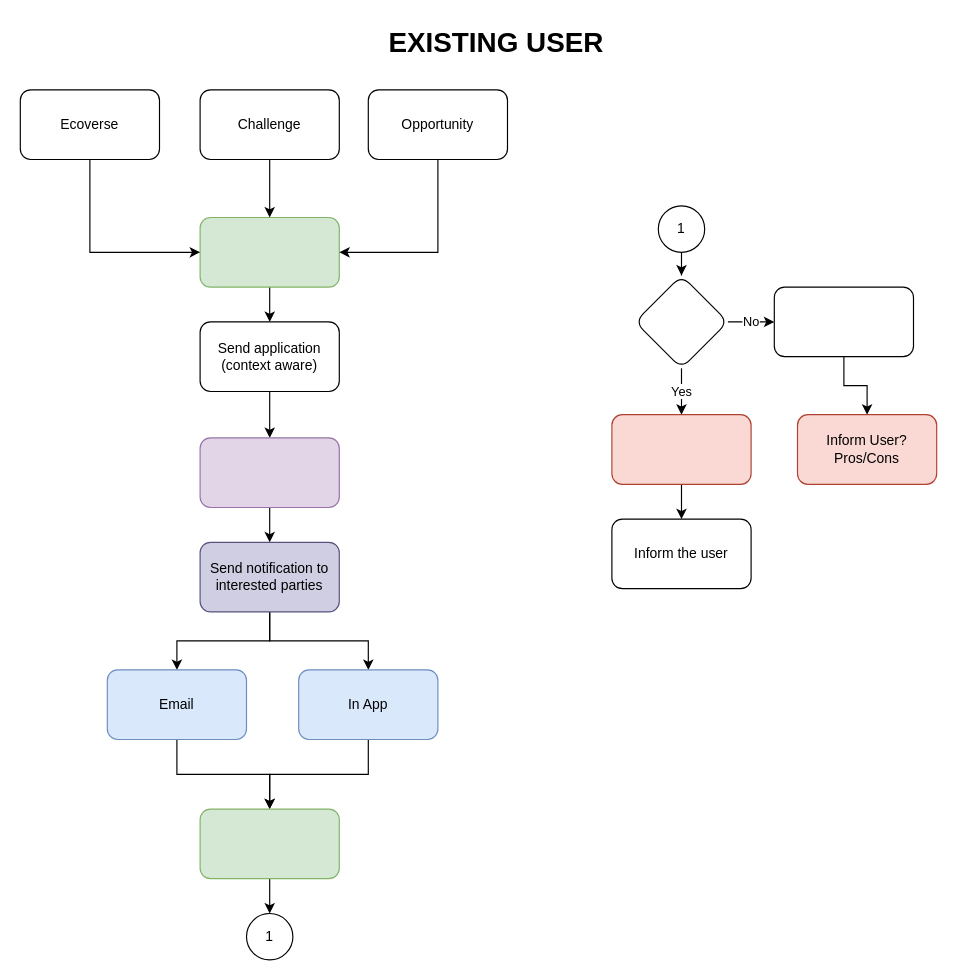
This 957x980 diagram has some shape labels left out. The shapes that lost their labels are listed below. From the top down, each one's centre as x and y in pixels, then its label:
At (269,251): "Apply".
At (681,321): "Approve?".
At (843,321): "Archive request".
At (681,449): "Application Logic executed ==> user in group".
At (269,472): "Request (Pending)".
At (269,843): "Admin Review".
